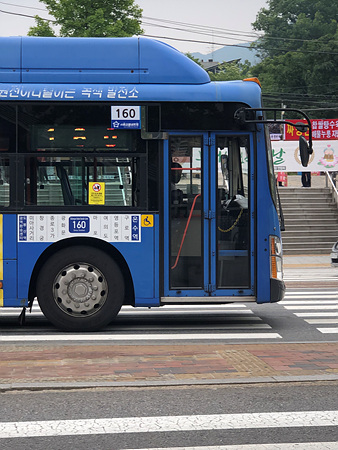entrance: (159, 122, 258, 301)
